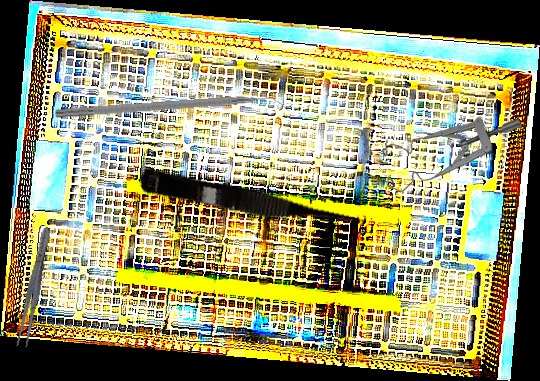Chopper: (54, 92, 291, 131)
Dressing Forceps: (14, 225, 55, 349)
Micro Scissor: (137, 167, 370, 241)
Speculum: (378, 110, 524, 199)
